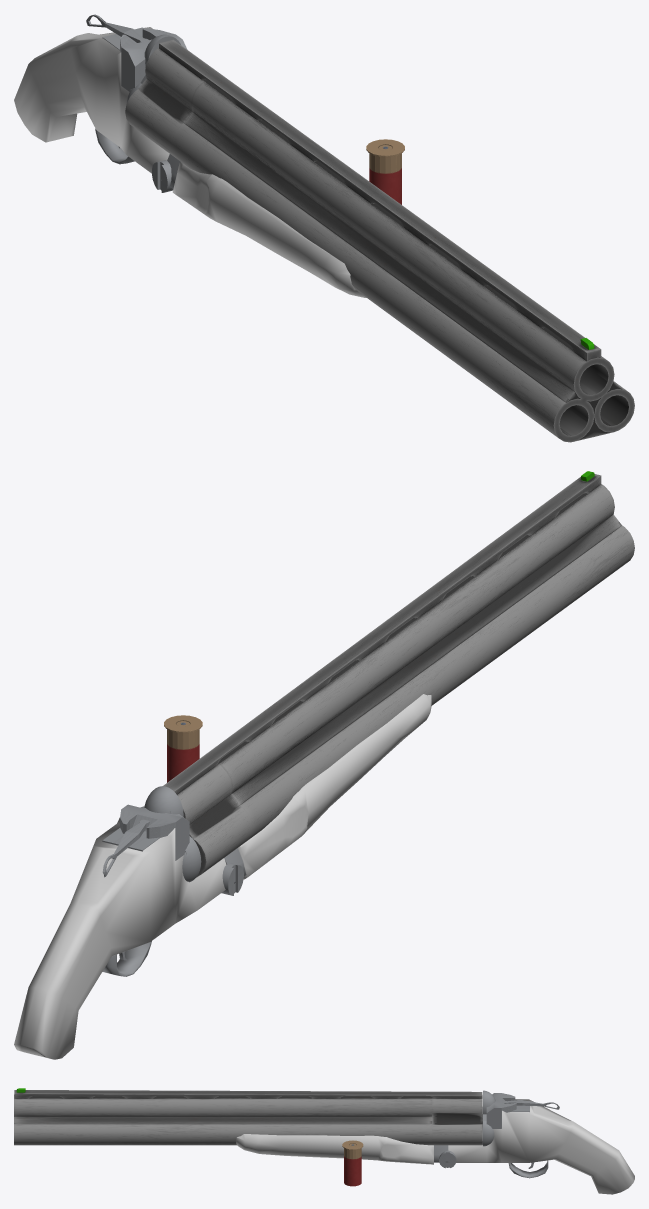
The model's file is shootgun_reexport.fbx.
3 views of the same model, one above another, from view 1: azimuth 30°, elevation 25°; view 2: azimuth 150°, elevation 25°; view 3: azimuth 270°, elevation 25° (orthographic). The views are drawn at different scales.
Visible parts, largest first — view 1: Box001, Box006, Box003, Cylinder004, Box007; view 2: Box001, Box006, Box003, Box007, Cylinder004, Box005, Box008; view 3: Box001, Box006, Box003, Cylinder004, Box007, Box005, Box008, Cylinder001, Cylinder002.
Boxes of the visible parts, box(x1,y1,x2,y2) form: Box001: box(125, 39, 634, 442); Box006: box(14, 27, 169, 173); Box003: box(172, 162, 366, 297); Cylinder004: box(366, 139, 404, 204); Box007: box(102, 27, 187, 91); Box001: box(163, 471, 634, 877); Box006: box(14, 817, 226, 1059); Box003: box(238, 694, 431, 879); Box007: box(102, 804, 189, 860); Cylinder004: box(164, 715, 202, 782); Box005: box(144, 786, 201, 882); Box008: box(102, 941, 151, 976); Box001: box(14, 1088, 482, 1145); Box006: box(448, 1099, 634, 1194); Box003: box(236, 1134, 433, 1164); Cylinder004: box(342, 1140, 363, 1186); Box007: box(486, 1093, 529, 1128); Box005: box(483, 1090, 495, 1146); Box008: box(508, 1160, 548, 1178); Cylinder001: box(439, 1150, 456, 1168); Cylinder002: box(504, 1100, 559, 1109).
Bounding box in the file's own units: 116 × 123 × 681.
